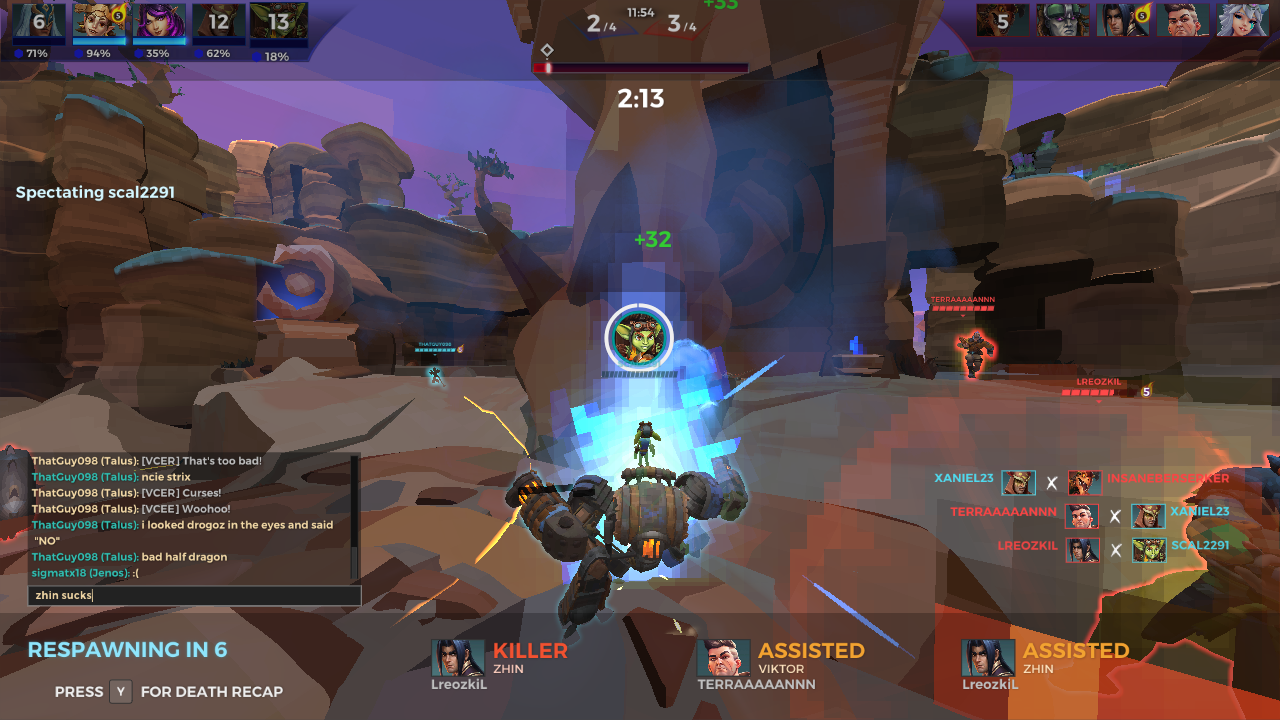model: (1056, 434, 1280, 710), (952, 324, 995, 379)
